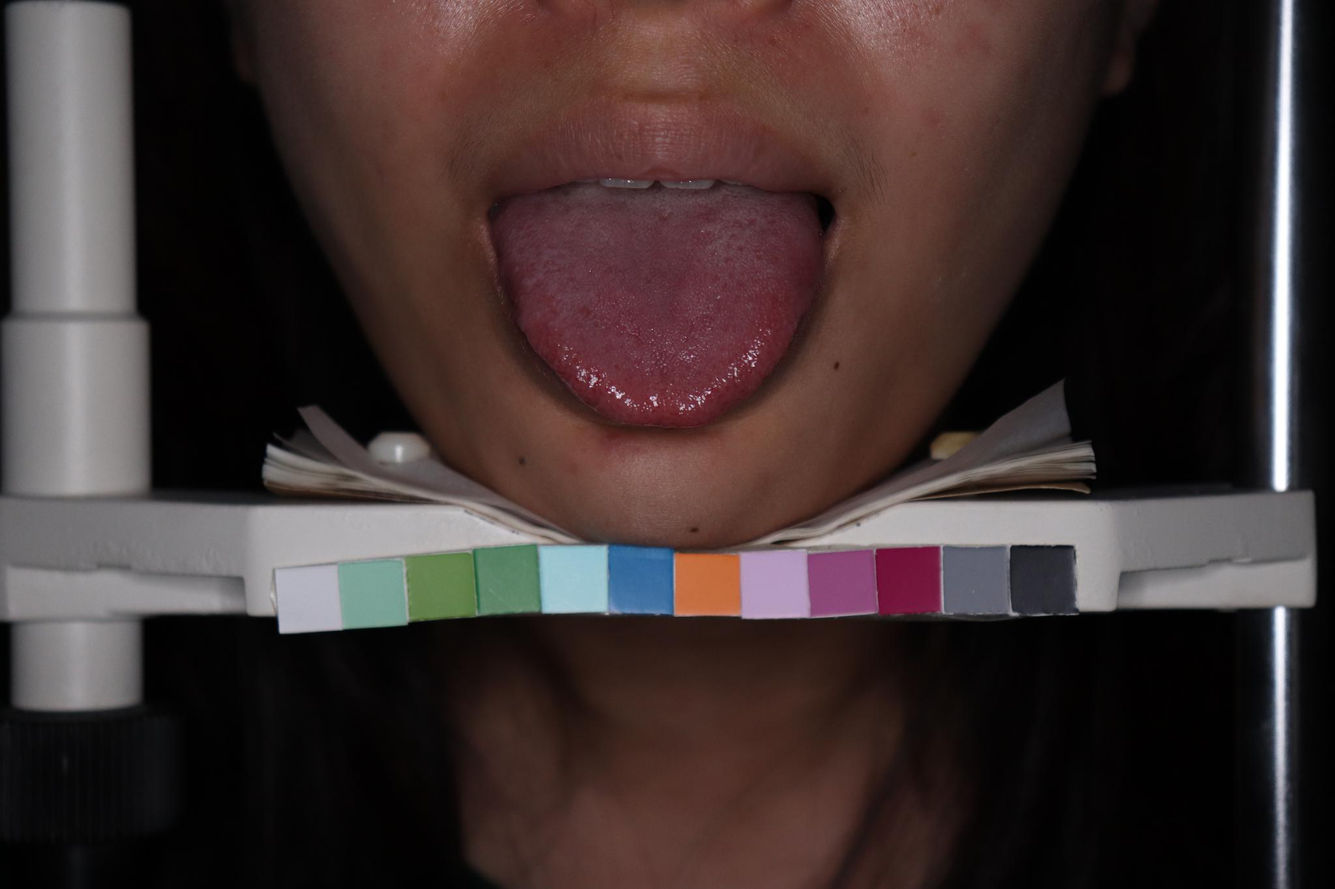baitaishe: (491, 190, 823, 427)
hongshe: (491, 190, 823, 428)
